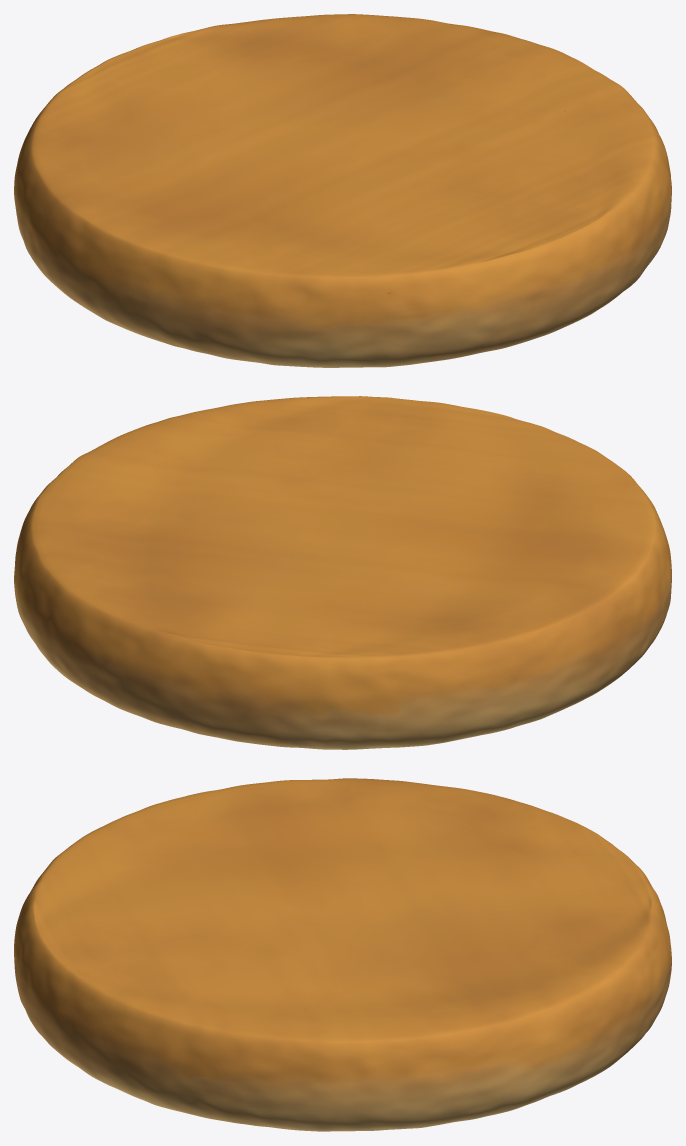
The model's file is bread_down.gltf.
The picture shows the model from 3 angles, top to bottom: view 1: azimuth 30°, elevation 25°; view 2: azimuth 150°, elevation 25°; view 3: azimuth 270°, elevation 25°; orthographic projection.
Parts seen in each view (by area): view 1: Cylinder.002; view 2: Cylinder.002; view 3: Cylinder.002.
Part boxes in pixels (left/top/right/bottom): Cylinder.002: left=14, top=14, right=671, bottom=367; Cylinder.002: left=14, top=396, right=671, bottom=749; Cylinder.002: left=14, top=778, right=671, bottom=1131.
Size of the model in its own units: 2.07 by 0.3619 by 2.08.
1 material, 1 textured.
